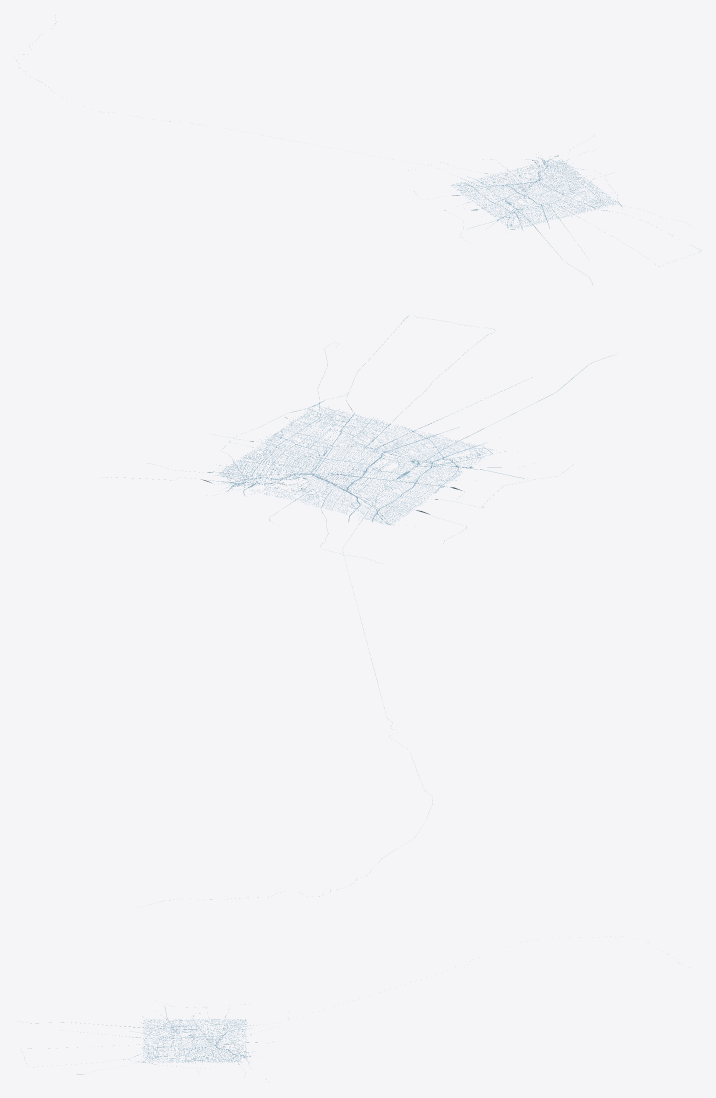
File: roads.glb
3 views of the same model, one above another, from view 1: azimuth 30°, elevation 25°; view 2: azimuth 150°, elevation 25°; view 3: azimuth 270°, elevation 25° (orthographic). The views are drawn at different scales.
Parts seen in each view (by area): view 1: roads; view 2: roads; view 3: roads.
Part boxes in pixels (x1=…): roads: x1=16, y1=15, x2=701, y2=284; roads: x1=102, y1=315, x2=613, y2=900; roads: x1=22, y1=936, x2=679, y2=1079.
Size of the model in its own units: 37388 by 403 by 73315.
